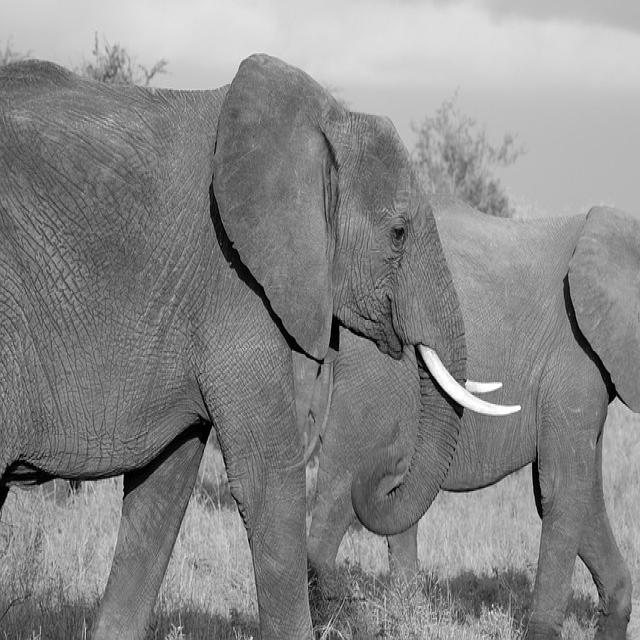elephant: (0, 55, 474, 640), (307, 205, 640, 640)
